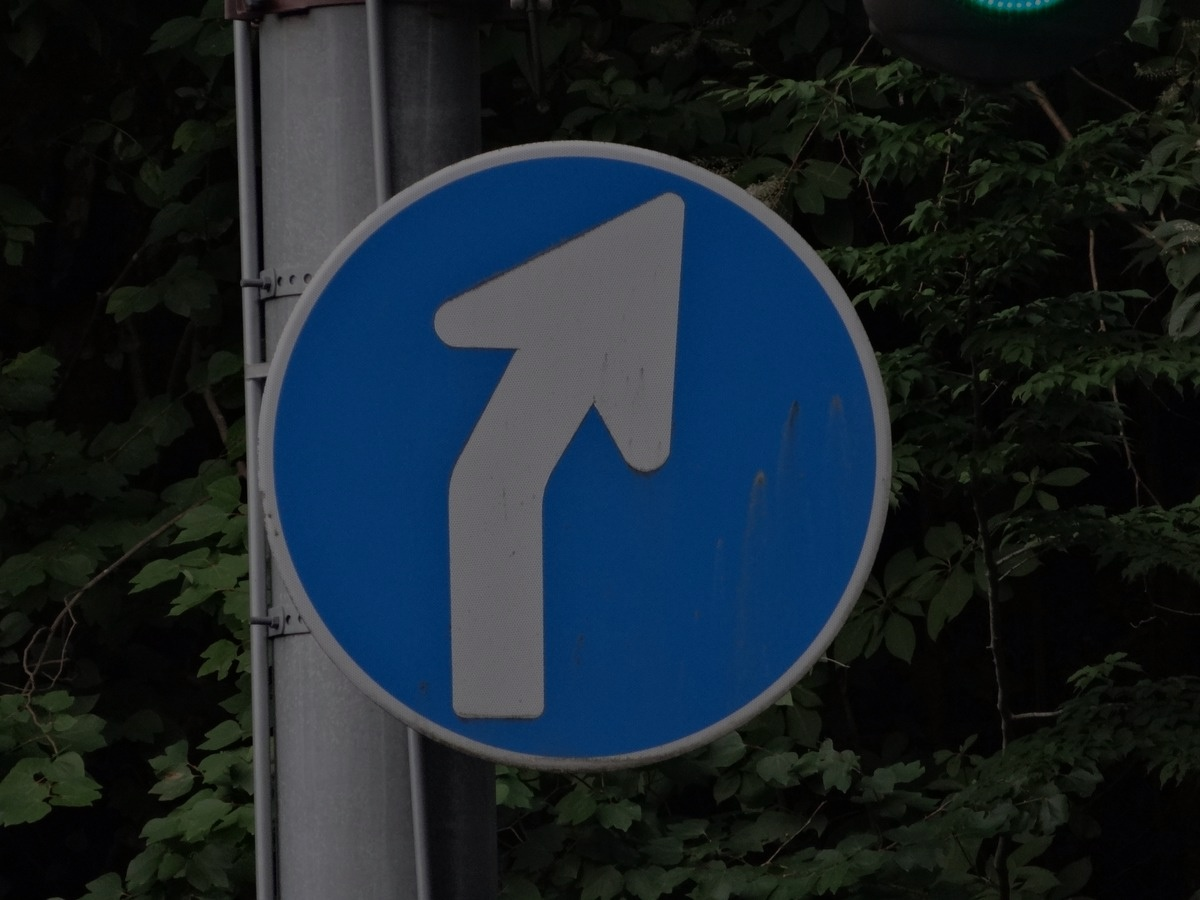Direction_sign: (250, 153, 899, 783)
